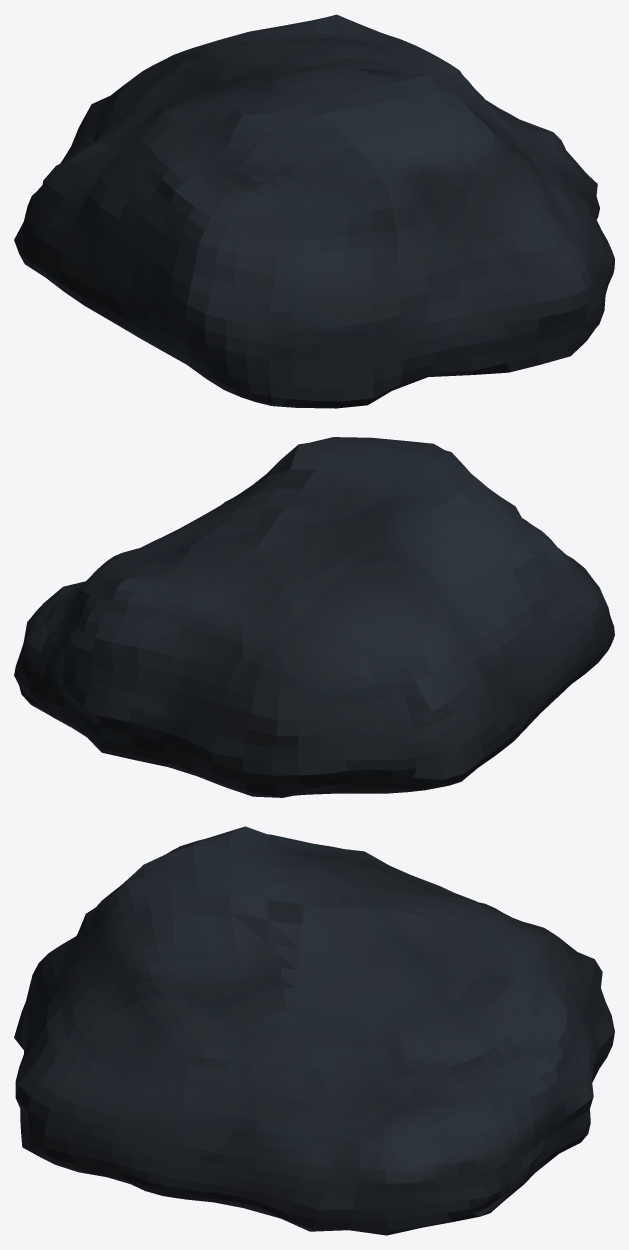
File: Rock.obj
The picture shows the model from 3 angles, top to bottom: view 1: azimuth 30°, elevation 25°; view 2: azimuth 150°, elevation 25°; view 3: azimuth 270°, elevation 25°; orthographic projection. The views are drawn at different scales.
Visible parts, largest first — view 1: Cube; view 2: Cube; view 3: Cube.
Part boxes in pixels (x1,y1,x2,y2): Cube: (14, 14, 614, 408); Cube: (14, 437, 614, 797); Cube: (14, 826, 614, 1235).
Size of the model in its own units: 1.88 by 0.8052 by 1.92.
1 material, 1 textured.
